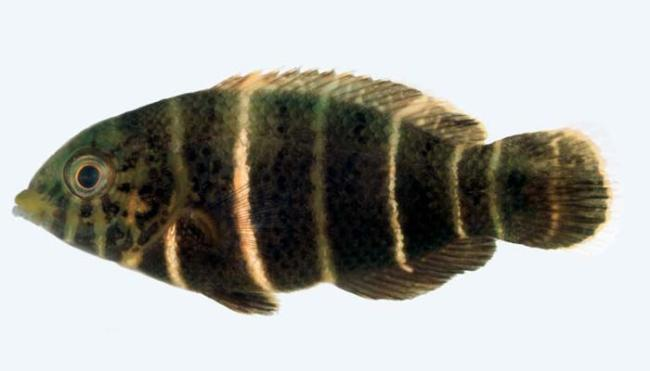fish: (11, 65, 613, 318)
